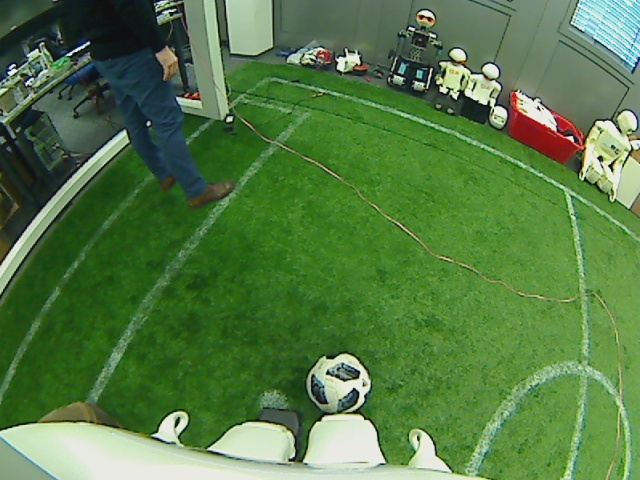ball: (303, 349, 375, 416)
